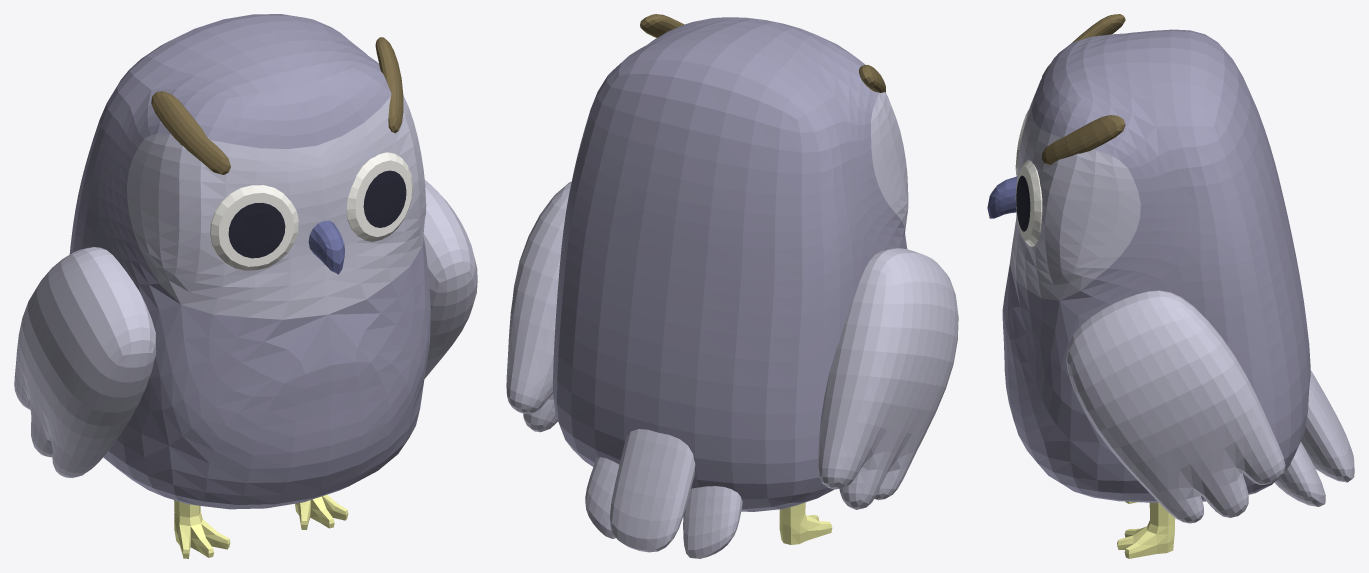
Rendered from SnowOwl_LOD0.fbx.
3 renders of one model, left to right at view 1: azimuth 30°, elevation 25°; view 2: azimuth 150°, elevation 25°; view 3: azimuth 270°, elevation 25°, orthographic. The views are drawn at different scales.
Parts seen in each view (by area): view 1: Mesh; view 2: Mesh; view 3: Mesh.
Boxes of the visible parts, bbox=[...] form: Mesh: bbox=[14, 14, 477, 558]; Mesh: bbox=[506, 14, 958, 558]; Mesh: bbox=[987, 14, 1354, 558].
Size of the model in its own units: 165 by 193 by 136.
1 material, 1 textured.
